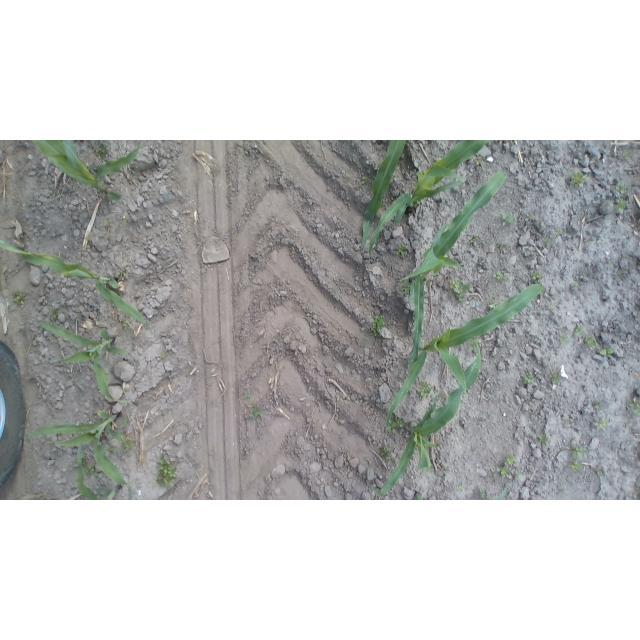Maize: (382, 283, 546, 426), (400, 170, 509, 364), (370, 355, 484, 498), (368, 140, 488, 258), (2, 240, 150, 332), (38, 317, 131, 405), (28, 409, 133, 486), (33, 141, 141, 210), (352, 140, 408, 254), (71, 445, 134, 500)
Weeds: (156, 452, 177, 490), (365, 315, 388, 338), (450, 279, 472, 302), (375, 444, 394, 464), (570, 171, 589, 189), (612, 198, 629, 217), (386, 418, 405, 435), (10, 290, 26, 309), (417, 380, 433, 399), (392, 243, 410, 259), (500, 212, 516, 228), (94, 143, 112, 157), (615, 181, 630, 197), (628, 396, 640, 416), (598, 345, 614, 359), (116, 268, 129, 285), (467, 339, 481, 354), (593, 419, 612, 430), (572, 324, 585, 340), (536, 432, 549, 448), (570, 446, 587, 458), (47, 307, 60, 322), (401, 280, 414, 295), (584, 336, 597, 351), (121, 216, 134, 230), (530, 269, 542, 284), (551, 374, 564, 387), (121, 413, 133, 427), (495, 465, 509, 477), (251, 405, 262, 420), (492, 271, 507, 282), (122, 441, 134, 454), (121, 319, 134, 331), (524, 372, 537, 384), (85, 464, 96, 478), (571, 280, 583, 292), (568, 461, 580, 473), (243, 391, 256, 402), (107, 443, 118, 456), (102, 218, 113, 231), (559, 334, 570, 347), (78, 456, 90, 467), (621, 151, 633, 162), (511, 471, 523, 482), (554, 227, 567, 237), (361, 177, 372, 188), (505, 455, 516, 466), (454, 483, 465, 494), (526, 213, 538, 223), (158, 351, 171, 360), (470, 236, 481, 246), (494, 338, 505, 348), (592, 401, 603, 411), (479, 490, 490, 500), (475, 157, 486, 166), (500, 244, 511, 253), (547, 299, 556, 307), (442, 467, 451, 475), (470, 443, 477, 453), (93, 471, 101, 479), (543, 238, 552, 245)
